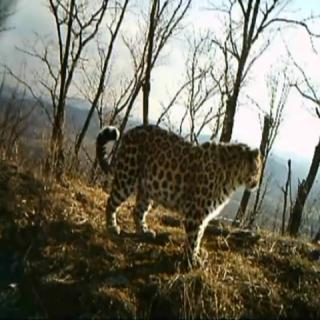Leopard: (85, 100, 265, 257), (101, 102, 253, 244)
